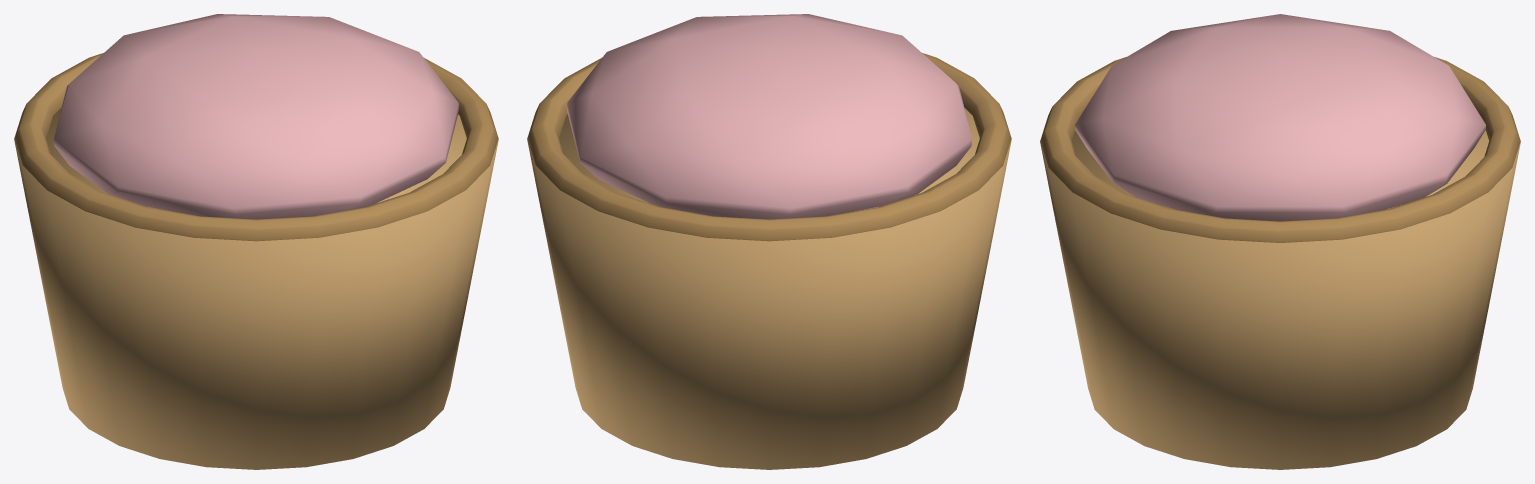
Rendered from basket.glb.
3 views of the same model, side by side, from view 1: azimuth 30°, elevation 25°; view 2: azimuth 150°, elevation 25°; view 3: azimuth 270°, elevation 25° (orthographic).
Parts seen in each view (by area): view 1: wicker, blanket, rim; view 2: wicker, blanket, rim; view 3: wicker, blanket, rim.
Part boxes in pixels (bbox=[...]): wicker: bbox=[14, 108, 498, 469]; blanket: bbox=[54, 14, 458, 219]; rim: bbox=[14, 53, 498, 241]; wicker: bbox=[527, 108, 1011, 469]; blanket: bbox=[567, 14, 971, 219]; rim: bbox=[527, 53, 1011, 241]; wicker: bbox=[1040, 115, 1520, 469]; blanket: bbox=[1075, 14, 1485, 221]; rim: bbox=[1040, 57, 1520, 242].
Size of the model in its own units: 0.6 by 0.46 by 0.6.
